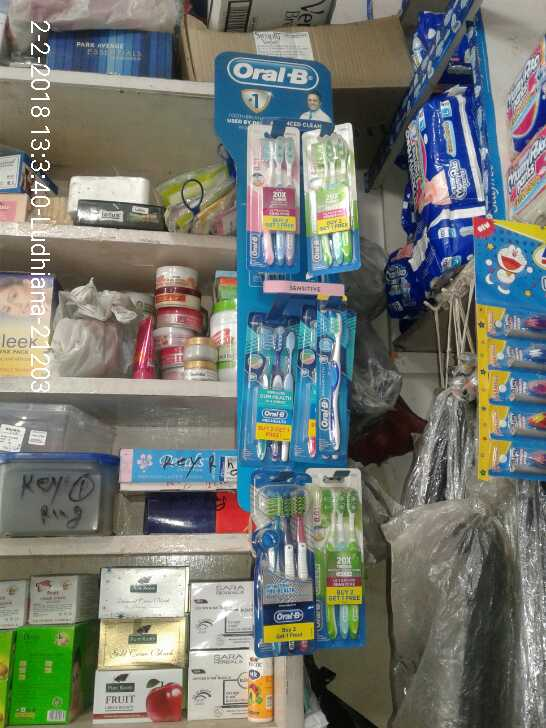oralb: (253, 490, 309, 661), (309, 483, 365, 641), (304, 296, 354, 455), (255, 127, 305, 270), (250, 312, 294, 470), (312, 123, 356, 269)
